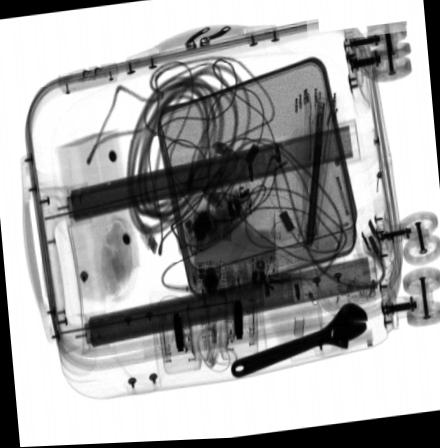Wrench: (230, 305, 366, 379)
